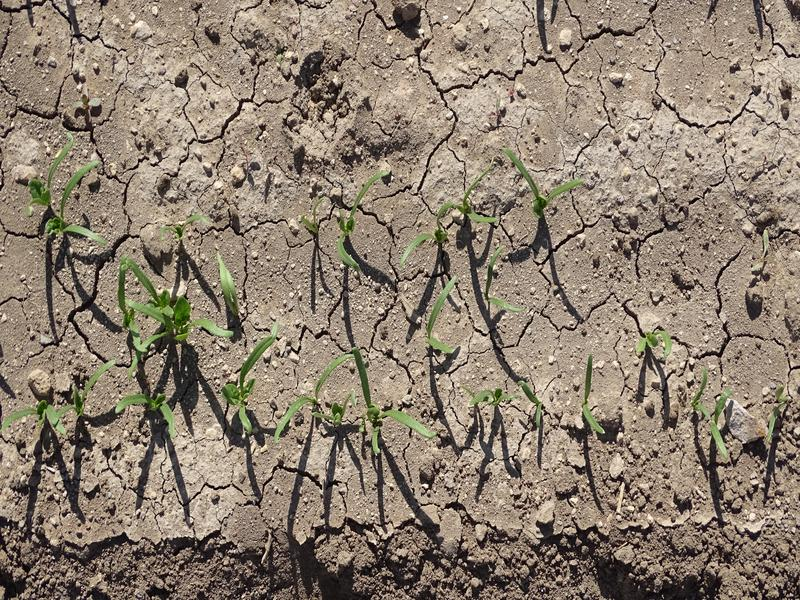Espinaca: (229, 347, 436, 451), (116, 256, 249, 356), (460, 353, 607, 437), (440, 148, 585, 233), (11, 358, 119, 440), (29, 139, 106, 248), (324, 169, 392, 270), (679, 377, 734, 452), (112, 391, 179, 436), (428, 275, 461, 347), (487, 244, 519, 313), (398, 234, 436, 267), (636, 323, 668, 355), (769, 384, 786, 442)
